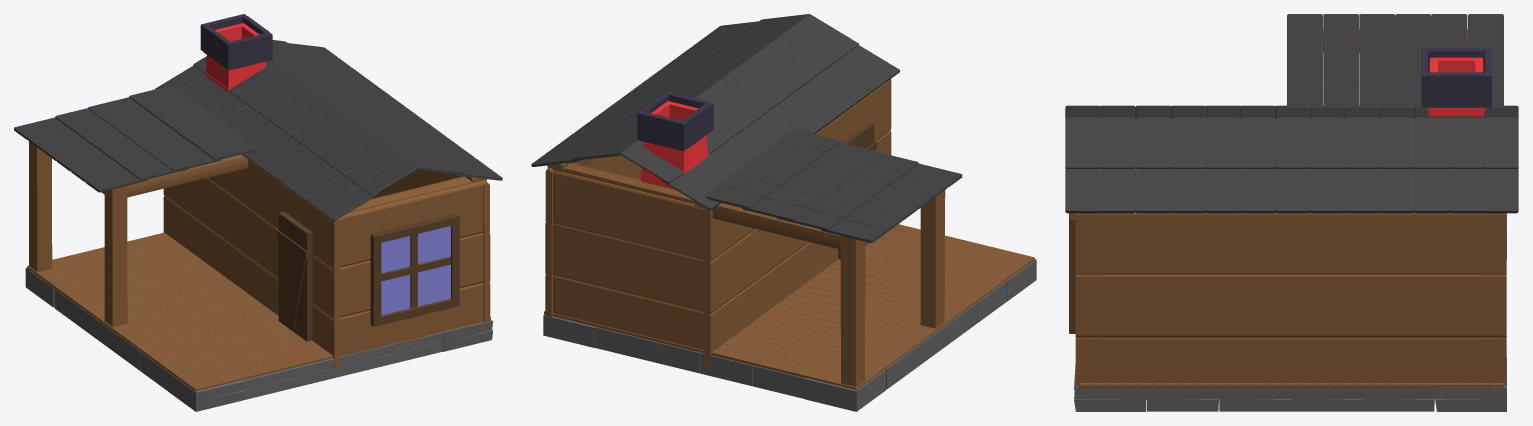
File: SM_Herbalist.fbx
The picture shows the model from 3 angles, left to right: view 1: azimuth 30°, elevation 25°; view 2: azimuth 150°, elevation 25°; view 3: azimuth 270°, elevation 25°; orthographic projection. The views are drawn at different scales.
Visible parts, largest first — view 1: SM_Roof, SM_WallPanel, SM_Floor, SM_Foundation, SM_Frame, SM_Window_01, SM_Chimney_01, SM_Door_01; view 2: SM_Roof, SM_WallPanel, SM_Floor, SM_Foundation, SM_Frame, SM_Chimney_01, SM_Door_01; view 3: SM_WallPanel, SM_Roof, SM_Foundation, SM_Chimney_01, SM_Floor, SM_Window_01.
Part boxes in pixels (<box>): SM_Roof: <box>14,40,502,221</box>; SM_WallPanel: <box>163,160,490,370</box>; SM_Floor: <box>27,232,490,391</box>; SM_Foundation: <box>25,268,493,411</box>; SM_Frame: <box>29,141,486,327</box>; SM_Window_01: <box>370,213,459,326</box>; SM_Chimney_01: <box>200,14,272,91</box>; SM_Door_01: <box>276,211,313,341</box>; SM_Roof: <box>531,14,962,242</box>; SM_WallPanel: <box>545,79,891,367</box>; SM_Floor: <box>544,224,1034,389</box>; SM_Foundation: <box>543,259,1036,411</box>; SM_Frame: <box>547,158,945,386</box>; SM_Chimney_01: <box>637,91,713,189</box>; SM_Door_01: <box>838,122,876,259</box>; SM_WallPanel: <box>1075,212,1506,399</box>; SM_Roof: <box>1065,14,1518,213</box>; SM_Foundation: <box>1074,213,1506,411</box>; SM_Chimney_01: <box>1421,48,1491,116</box>; SM_Floor: <box>1079,383,1504,387</box>; SM_Window_01: <box>1069,213,1075,333</box>.
Size of the model in its own units: 644 by 631 by 439.
